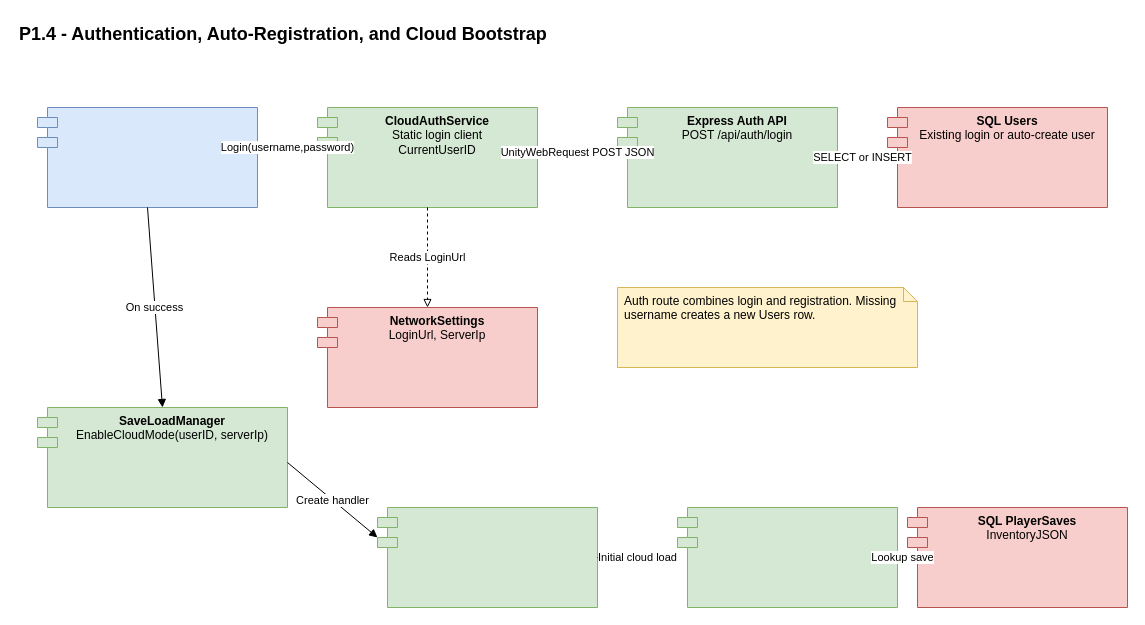
Some shapes in this 1145 by 625 pixel diagram are drawn without their labels. Here are the shapes that lost their labels. From the top down, the centre of each, then its label:
pixel 147 157: LoginController Reads username/password, updates status UI
pixel 487 557: CloudDataHandler Build save/load URLs
pixel 787 557: Express Load API GET /api/loadgame/:userID
